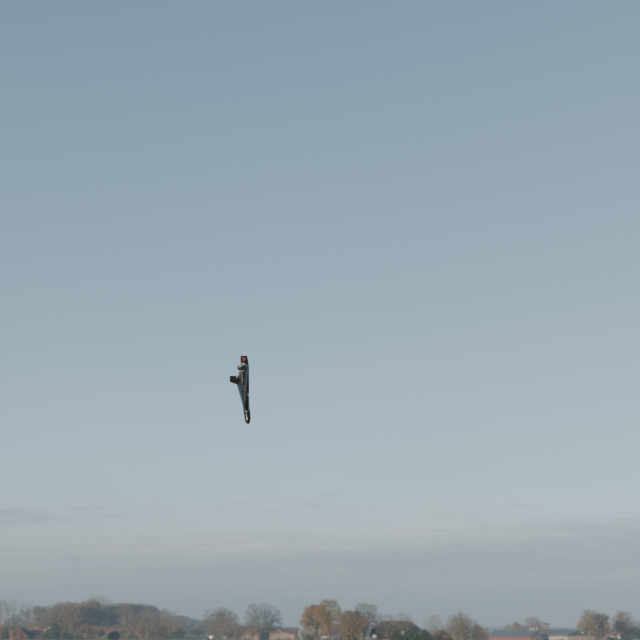shahed: (230, 356, 251, 424)
